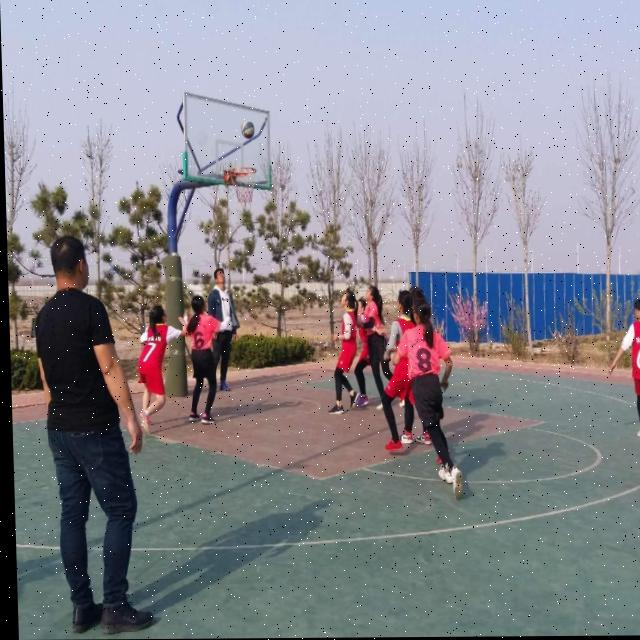basketball: (241, 121, 256, 139)
hoop: (229, 166, 258, 205)
